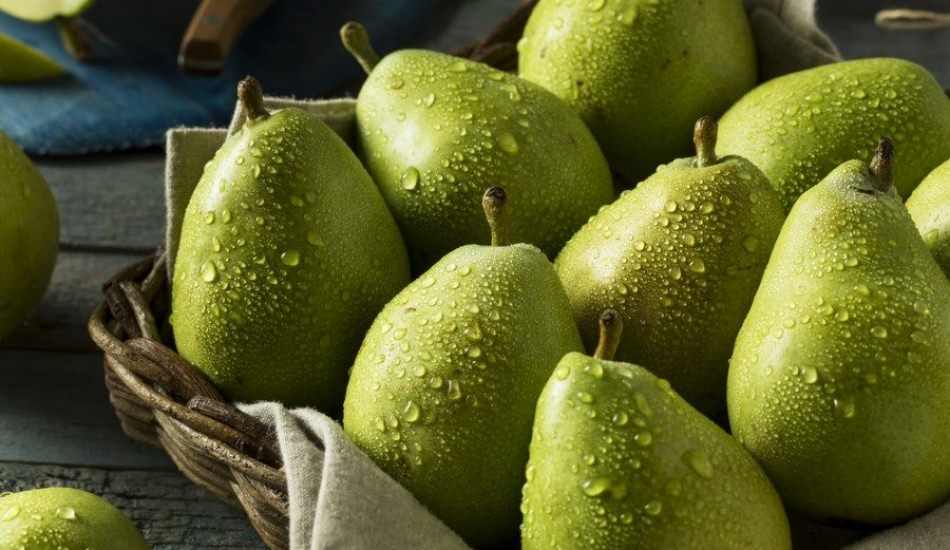pear: (726, 155, 950, 527), (158, 103, 402, 435), (325, 241, 579, 536)
